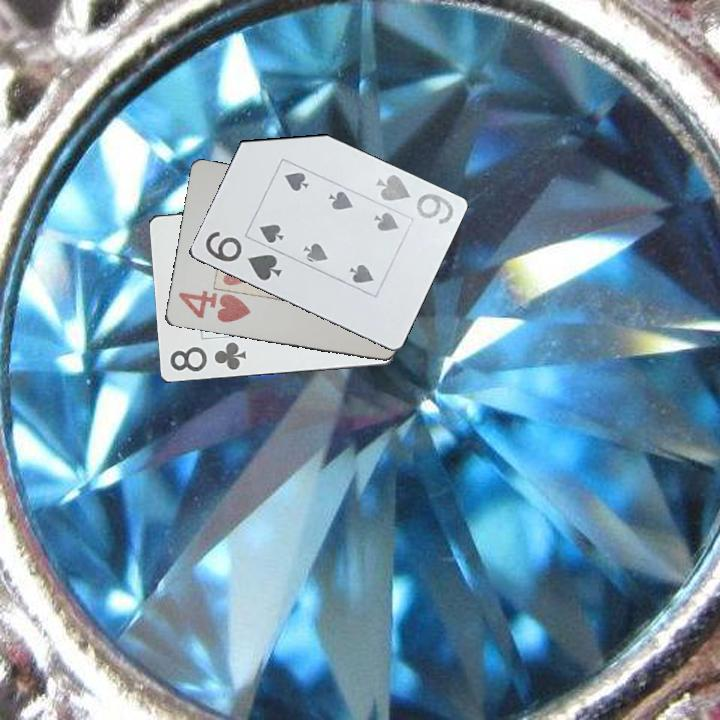4h: (175, 288, 253, 326)
6s: (371, 171, 456, 228), (201, 228, 285, 285)
8c: (166, 339, 249, 375)
